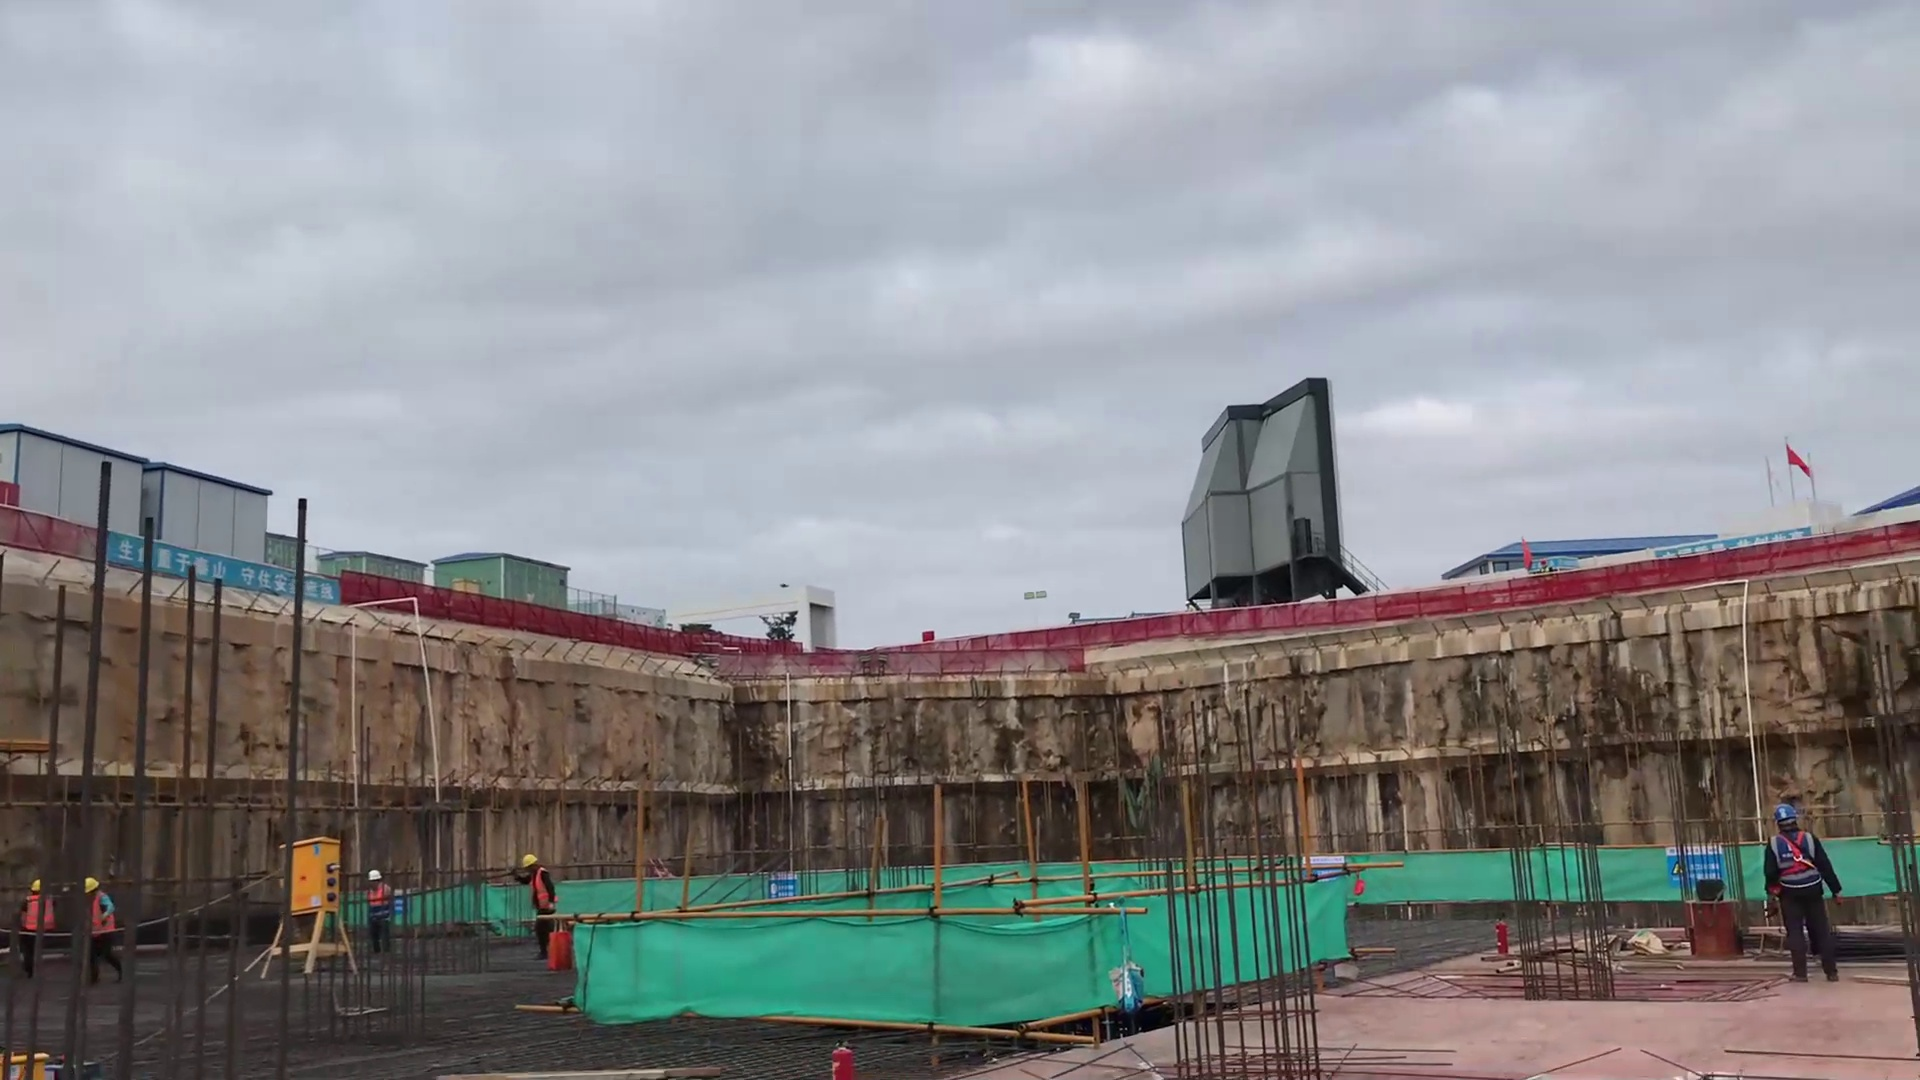helmet: (1772, 804, 1801, 822), (80, 875, 102, 890), (522, 851, 536, 869), (366, 867, 382, 879), (29, 878, 44, 891)
person: (1760, 803, 1853, 983), (74, 872, 127, 981), (512, 850, 563, 956), (359, 862, 396, 965), (21, 874, 53, 974), (1530, 553, 1561, 573)
vest: (1765, 830, 1822, 893), (25, 891, 51, 934), (529, 866, 553, 913), (91, 892, 116, 934), (367, 883, 385, 910)
